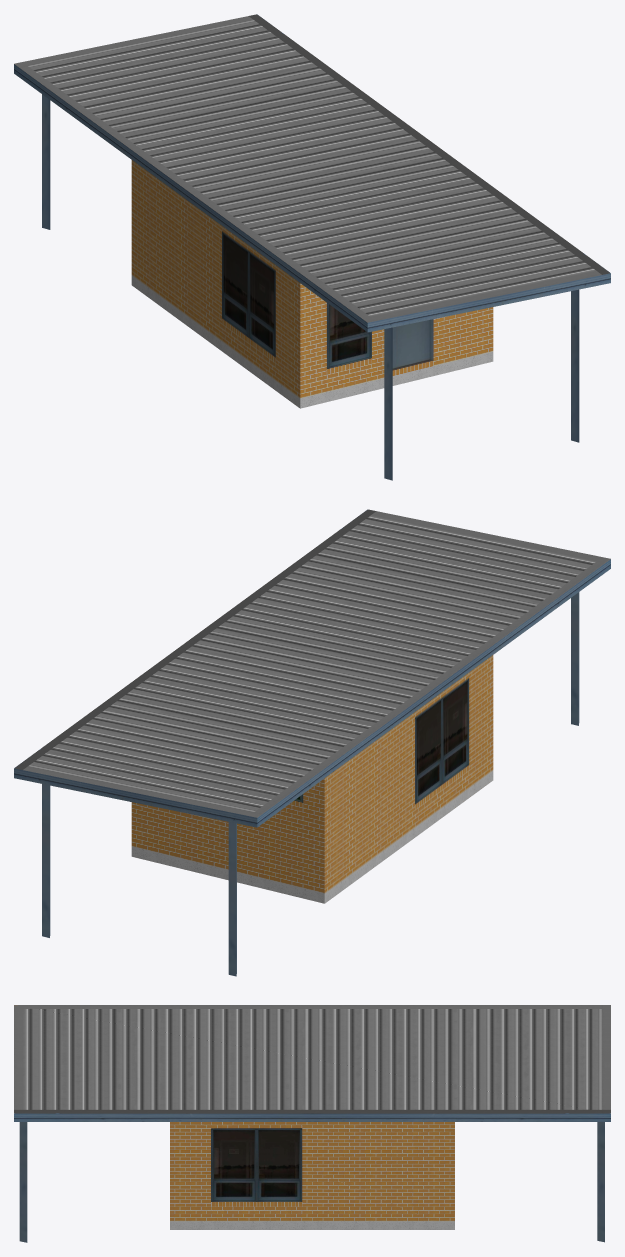
File: terminal-tiny-06-6x4-cbj_LOD01.gltf
3 views of the same model, one above another, from view 1: azimuth 30°, elevation 25°; view 2: azimuth 150°, elevation 25°; view 3: azimuth 270°, elevation 25° (orthographic). The views are drawn at different scales.
Visible parts, largest first — view 1: Cube.001; view 2: Cube.001; view 3: Cube.001.
Part boxes in pixels (bbox=[...]): Cube.001: bbox=[14, 14, 610, 480]; Cube.001: bbox=[14, 509, 610, 976]; Cube.001: bbox=[14, 1005, 610, 1242].
Size of the model in its own units: 5.16 by 3.55 by 13.
